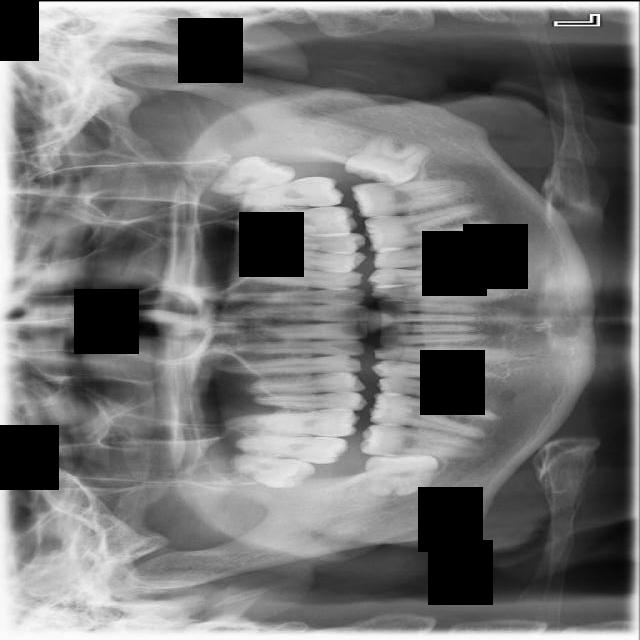3M ESPE Implant: (230, 451, 317, 492)
73: (592, 56, 600, 60)
BioHorizons Implant: (234, 175, 343, 206)
BioLife Implant: (206, 147, 297, 199)
Biomet 3i Implant: (341, 123, 434, 196)
Blue Sky Bio Implant: (350, 175, 476, 219)
Caries: (236, 433, 350, 465)
Implant: (357, 419, 486, 466)
Keystone Dental Implant: (364, 454, 440, 496)
